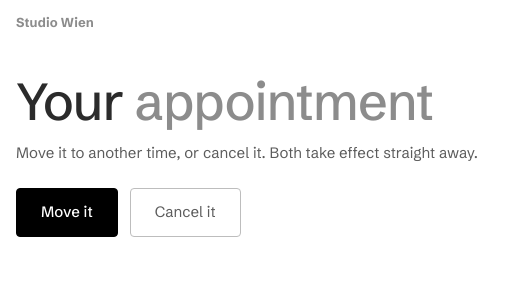
Test case: Manage › tells a rate-limited customer to wait rather than that something broke
Click the button "Cancel it" at (185, 212), box 130,188 -> 241,237
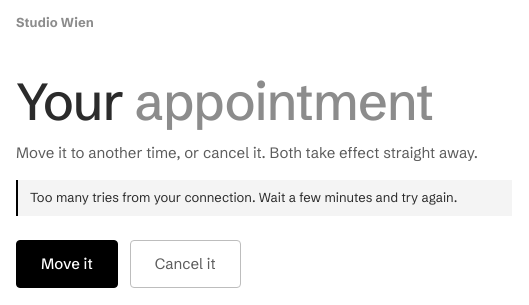
Now the text "Too many tries from your connection" is shown, box 30,189 -> 457,205
